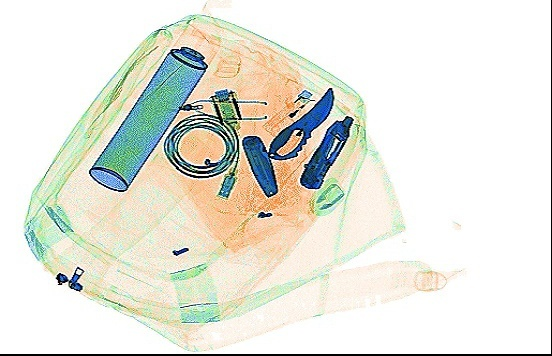knife: (265, 84, 333, 160), (297, 112, 353, 188), (238, 133, 278, 198)
lighter: (259, 86, 314, 137), (271, 109, 323, 156)
pressure: (86, 20, 217, 192)
